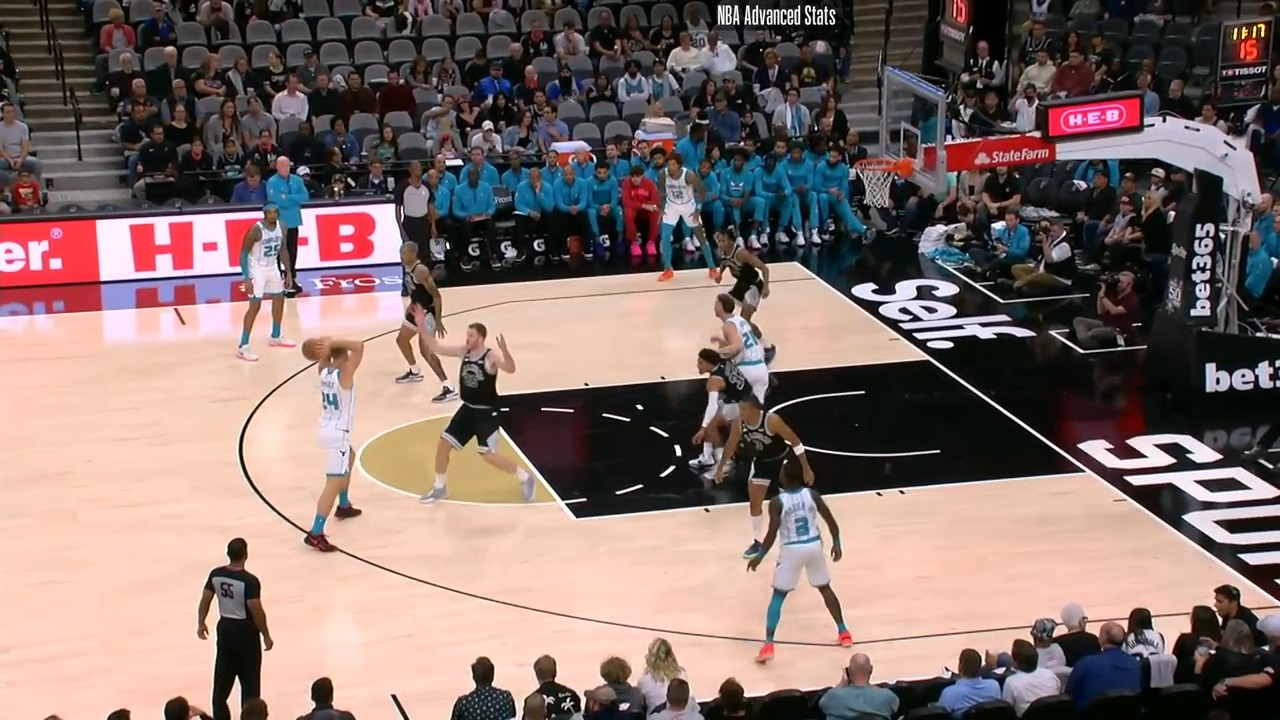net: (854, 152, 919, 208)
player: (747, 454, 860, 672), (420, 317, 538, 510), (706, 384, 809, 575), (297, 336, 367, 558), (675, 342, 756, 474), (236, 201, 300, 366), (707, 290, 779, 430), (396, 239, 455, 400), (708, 229, 773, 368), (652, 154, 715, 290)
referee: (184, 539, 272, 720), (399, 163, 447, 284)
